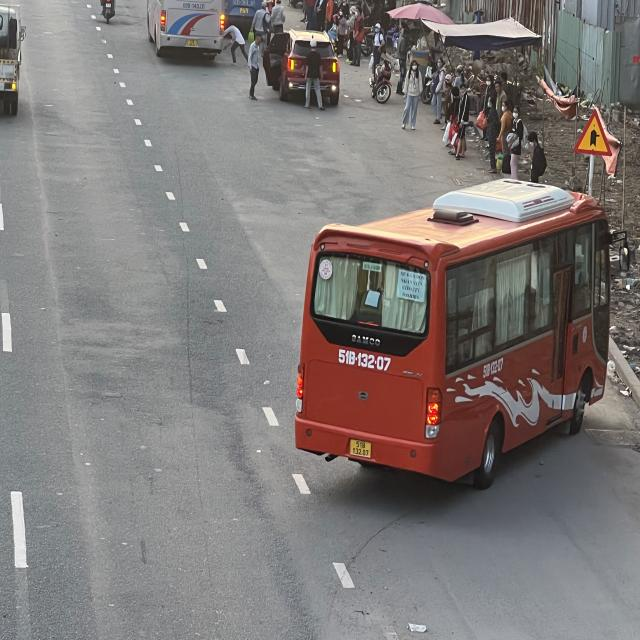car: (279, 32, 343, 102)
coach: (300, 186, 618, 484), (144, 0, 226, 55)
